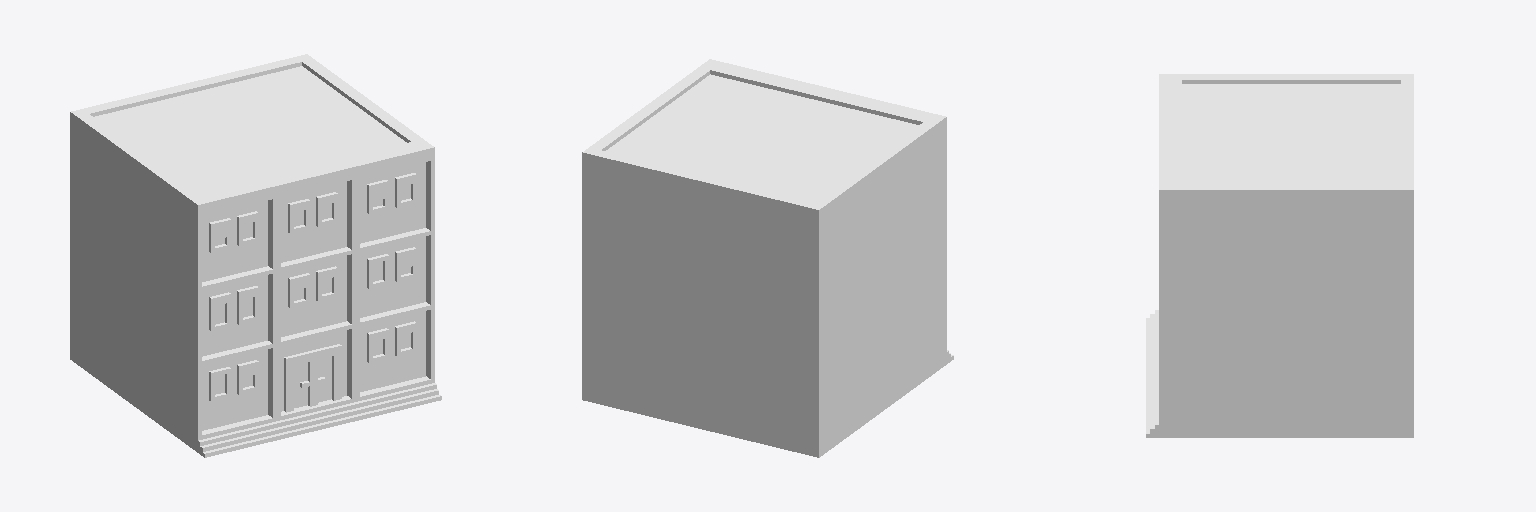
File: Edificio_07.obj
3 views of the same model, side by side, from view 1: azimuth 30°, elevation 25°; view 2: azimuth 150°, elevation 25°; view 3: azimuth 270°, elevation 25° (orthographic).
Parts seen in each view (by area): view 1: object 1; view 2: object 1; view 3: object 1.
Part boxes in pixels (x1,y1,x2,y2): object 1: (70,54,441,457); object 1: (582,59,953,457); object 1: (1146,74,1413,437).
Size of the model in its own units: 6 by 6 by 5.9.